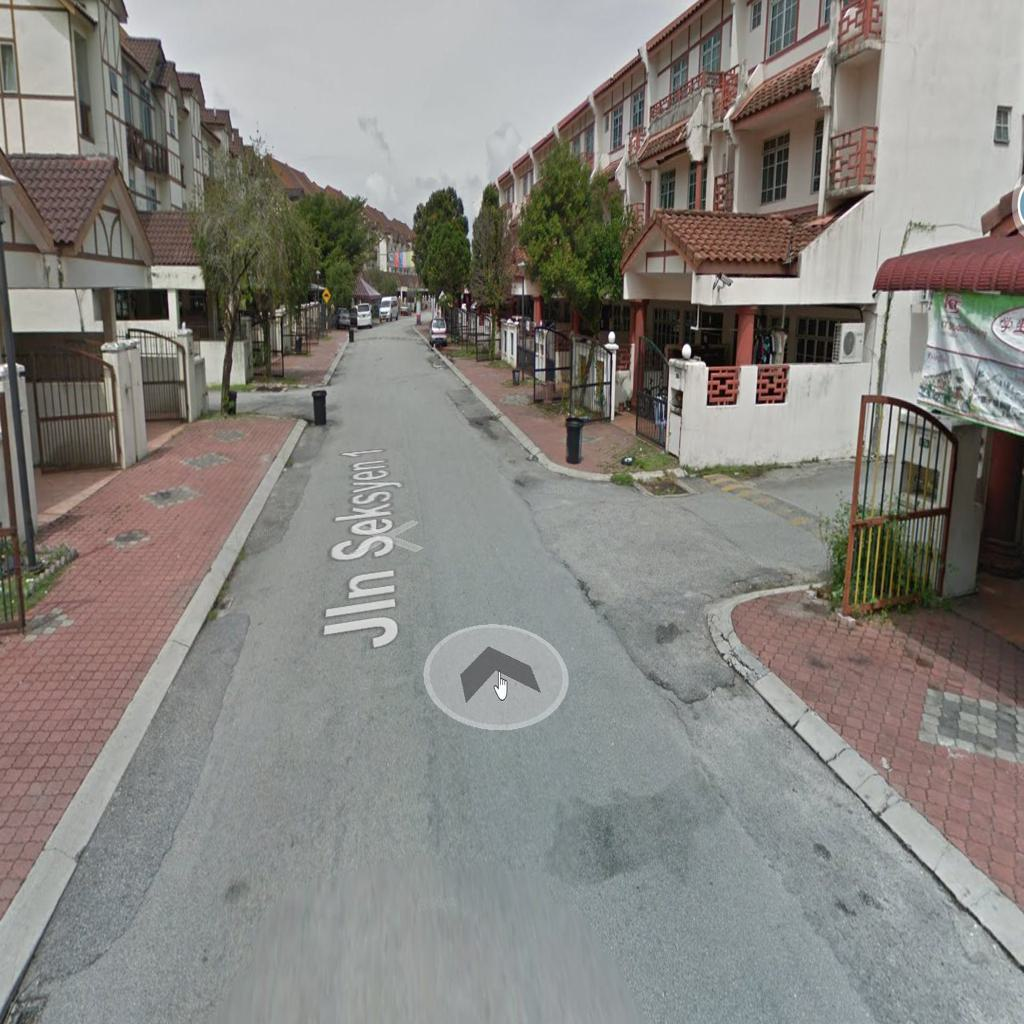Junction: (520, 435, 857, 655), (197, 356, 373, 456)
